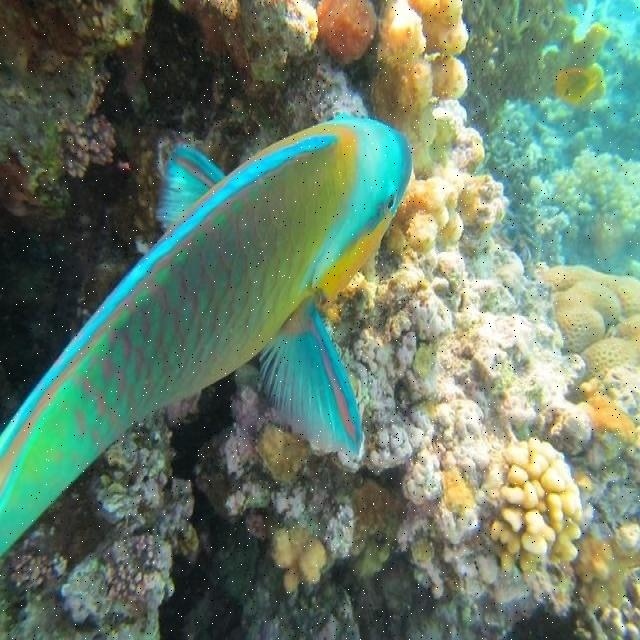fish: (1, 112, 413, 556)
reefs: (490, 433, 583, 572), (541, 265, 638, 381)
